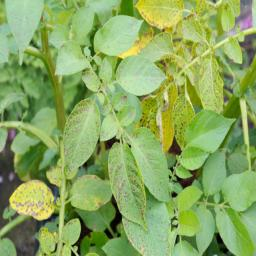Early_blight: (117, 186, 121, 197), (117, 162, 122, 170), (85, 107, 89, 112), (75, 111, 78, 115), (93, 110, 95, 114)
Leaf: (129, 129, 176, 205), (109, 141, 148, 232), (63, 99, 100, 172), (115, 56, 170, 96), (97, 15, 144, 55), (54, 40, 88, 76), (180, 145, 212, 170)
